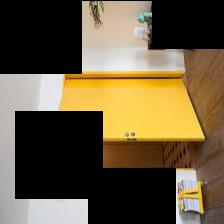yellow: (51, 78, 205, 140)
